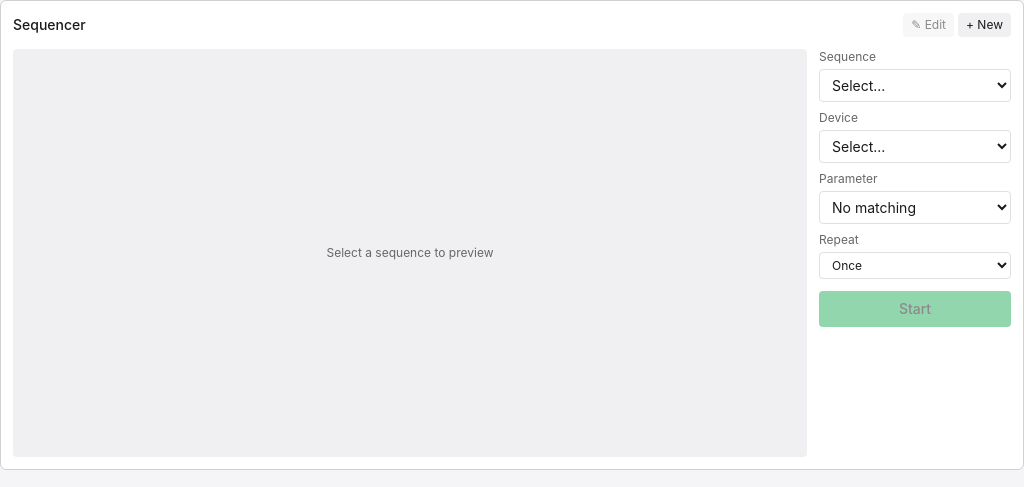
Test: SequencePanel Integration › Playback Controls › should display progress during playback
expect the heading "Sequencer" is shown: met, box [13,15,86,35]
Step 1. Select "Voltage Ramp (V)" in the 1st dropdown → x=915, y=86, box [819,69,1011,102]
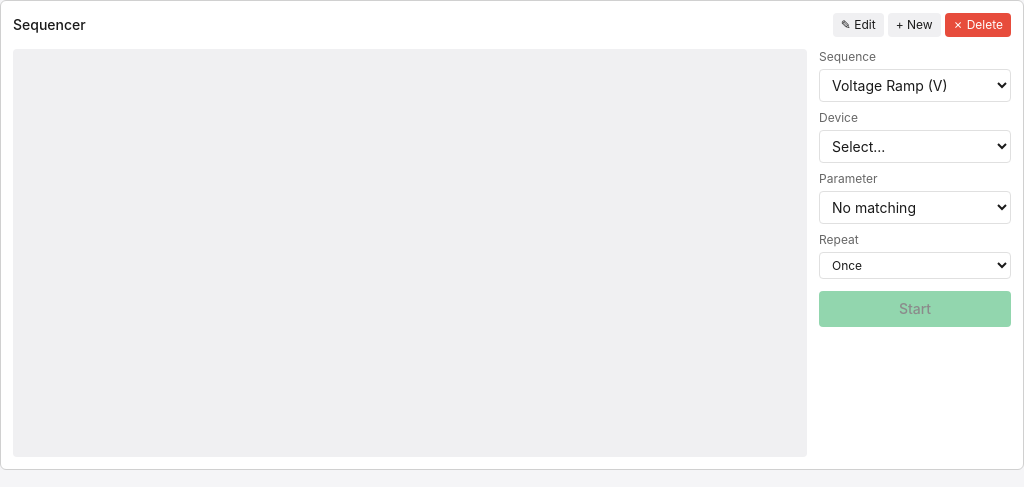
Step 2. Select "Rigol DP832" in the dropdown below "Device" → x=915, y=146, box [819,130,1011,163]
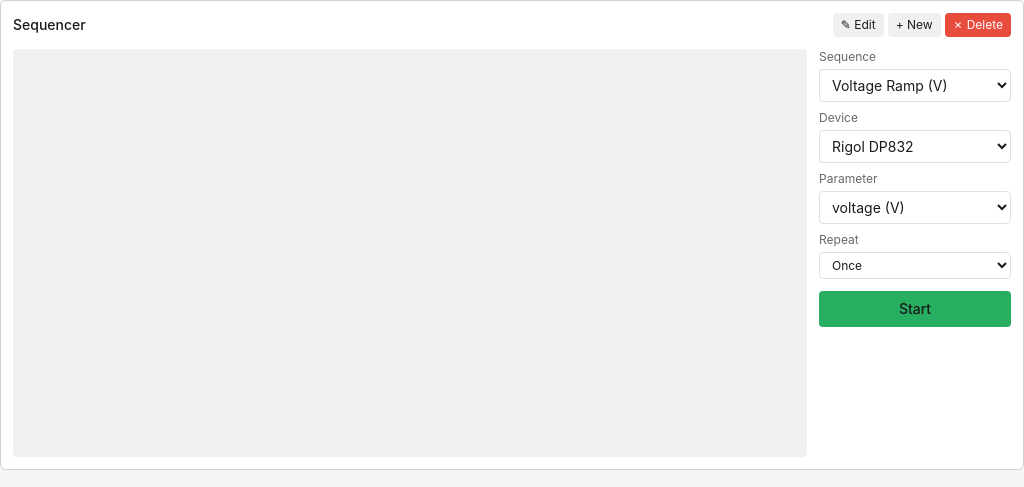
expect the button "Start" is enabled: met
Step 3. Click the button "Start" → x=915, y=309, box [819,291,1011,327]
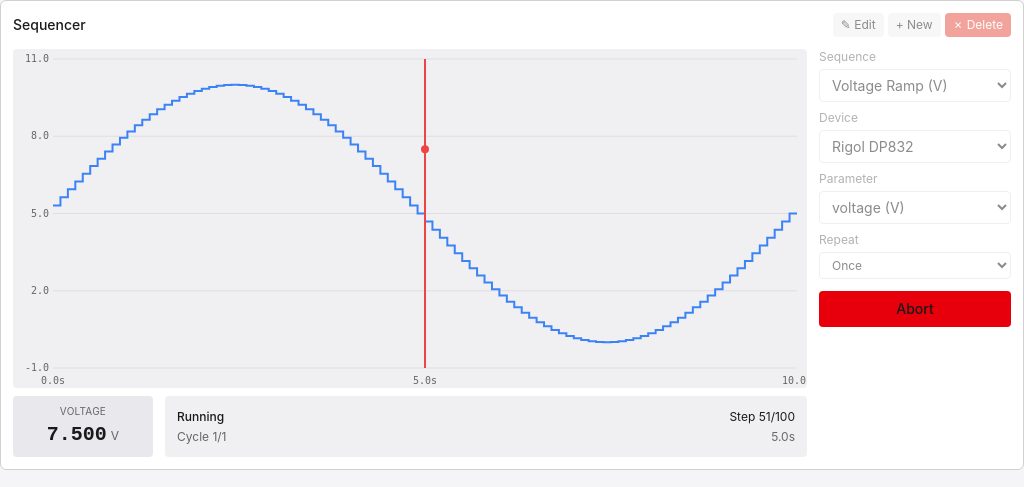
expect the text "Step 51/100" is shown: met, box [729,408,795,424]
expect the text "7.500" is shown: met, box [47,423,107,446]
